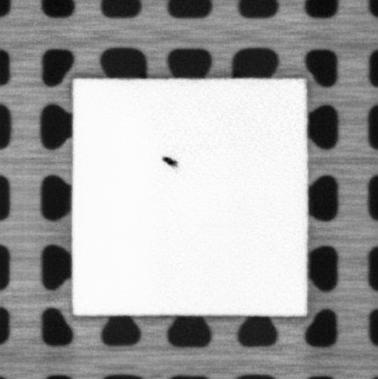DIE_INK: (160, 154, 180, 166)
